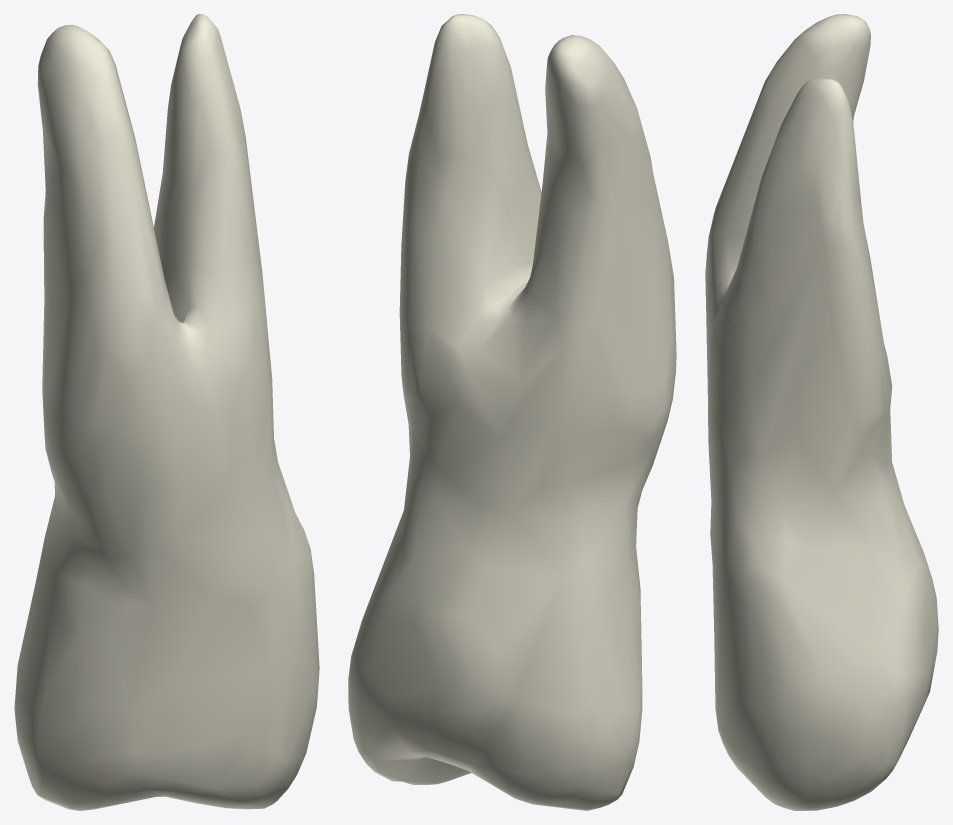
The model's file is Left second upper premolar tooth.fbx.
The picture shows the model from 3 angles, left to right: view 1: azimuth 30°, elevation 25°; view 2: azimuth 150°, elevation 25°; view 3: azimuth 270°, elevation 25°; orthographic projection. The views are drawn at different scales.
Parts seen in each view (by area): view 1: Left second upper premolar tooth; view 2: Left second upper premolar tooth; view 3: Left second upper premolar tooth.
Part boxes in pixels (box(x1,y1,x2,y2)): Left second upper premolar tooth: box(14, 14, 319, 810); Left second upper premolar tooth: box(348, 14, 676, 810); Left second upper premolar tooth: box(705, 14, 938, 810).
Size of the model in its own units: 1.24 by 3.46 by 1.01.
